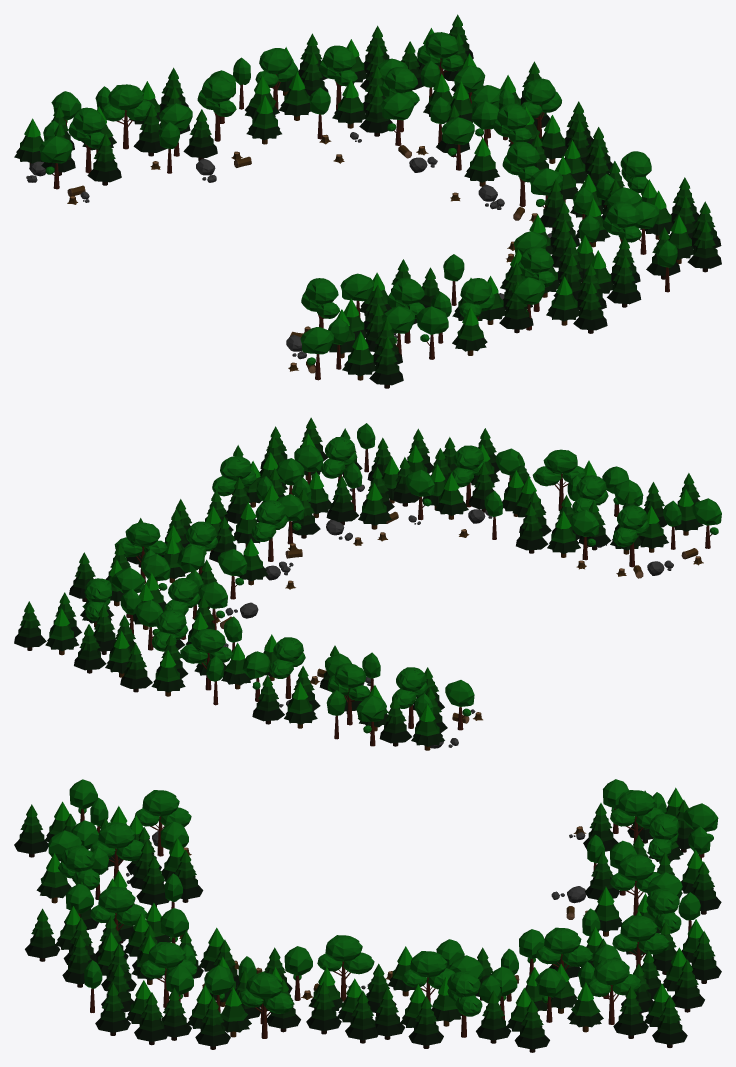
Rendered from EndSzene_Group.FBX.
3 renders of one model, top to bottom at view 1: azimuth 30°, elevation 25°; view 2: azimuth 150°, elevation 25°; view 3: azimuth 270°, elevation 25°, orthographic. The views are drawn at different scales.
Visible parts, largest first — view 1: Tree_Big_lp013, Tree_Big_lp015, Tree_Big_lp005, Tree_Big_lp012, Tree_Big_lp009, Tree_Big_lp006, Tree_Big_lp011, Tree_Big_lp002, Tree_Big_lp008, Tree_Big_lp001, Tree_Big_lp007, Tree_Big_lp003 (+40 smaller); view 2: Tree_Big_lp014, Tree_Big_lp012, Tree_Big_lp011, Tree_Big_lp013, Tree_Big_lp008, Tree_Big_lp002, Tree_Big_lp005, Tree_Big_lp009, Tree_Big_lp010, Tree_Big_lp003, Tree_Big_lp001, Tree_Big_lp006 (+50 smaller); view 3: Tree_Big_lp002, Tree_Big_lp010, Tree_Big_lp006, Tree_Big_lp015, Tree_Big_lp008, Tree_Big_lp, Tree_Big_lp003, Tree_Big_lp004, Tree_Big_lp009, Tree_Big_lp005, Tree_Big_lp007, Tree_Big_lp001 (+81 smaller).
Part boxes in pixels (x1,y1,x2,y2): Tree_Big_lp013: [101, 84, 155, 149]; Tree_Big_lp015: [417, 32, 463, 76]; Tree_Big_lp005: [197, 76, 236, 141]; Tree_Big_lp012: [255, 48, 298, 110]; Tree_Big_lp009: [68, 107, 105, 173]; Tree_Big_lp006: [319, 45, 357, 110]; Tree_Big_lp011: [521, 78, 561, 138]; Tree_Big_lp002: [502, 141, 539, 206]; Tree_Big_lp008: [301, 278, 340, 328]; Tree_Big_lp001: [603, 201, 641, 242]; Tree_Big_lp007: [493, 103, 531, 144]; Tree_Big_lp003: [518, 246, 555, 311]; Tree_Big_lp014: [532, 449, 585, 510]; Tree_Big_lp012: [180, 629, 232, 690]; Tree_Big_lp011: [114, 522, 167, 583]; Tree_Big_lp013: [327, 663, 370, 725]; Tree_Big_lp008: [613, 505, 649, 567]; Tree_Big_lp002: [251, 500, 287, 561]; Tree_Big_lp005: [269, 637, 305, 698]; Tree_Big_lp009: [392, 667, 428, 728]; Tree_Big_lp010: [212, 456, 256, 496]; Tree_Big_lp003: [451, 445, 485, 507]; Tree_Big_lp001: [321, 436, 357, 481]; Tree_Big_lp006: [152, 609, 188, 651]; Tree_Big_lp002: [317, 935, 374, 1001]; Tree_Big_lp010: [239, 972, 293, 1038]; Tree_Big_lp006: [612, 915, 669, 967]; Tree_Big_lp015: [587, 958, 640, 1024]; Tree_Big_lp008: [134, 790, 191, 856]; Tree_Big_lp: [536, 927, 592, 970]; Tree_Big_lp003: [90, 886, 147, 931]; Tree_Big_lp004: [90, 822, 144, 878]; Tree_Big_lp009: [610, 790, 664, 842]; Tree_Big_lp005: [610, 854, 660, 915]; Tree_Big_lp007: [402, 951, 454, 1002]; Tree_Big_lp001: [140, 942, 197, 1007].
Bounding box in the file's own units: 45.18 × 5.97 × 58.08.
